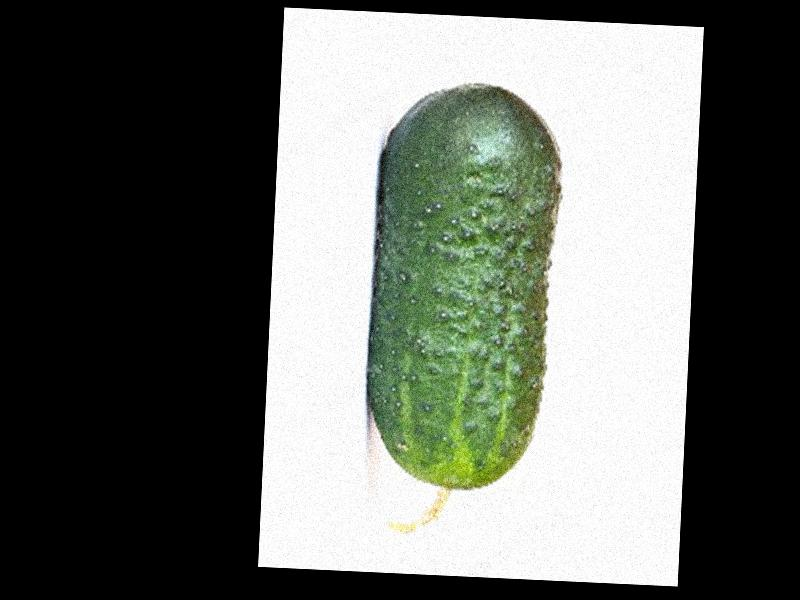Cucumber: (362, 83, 563, 542)
